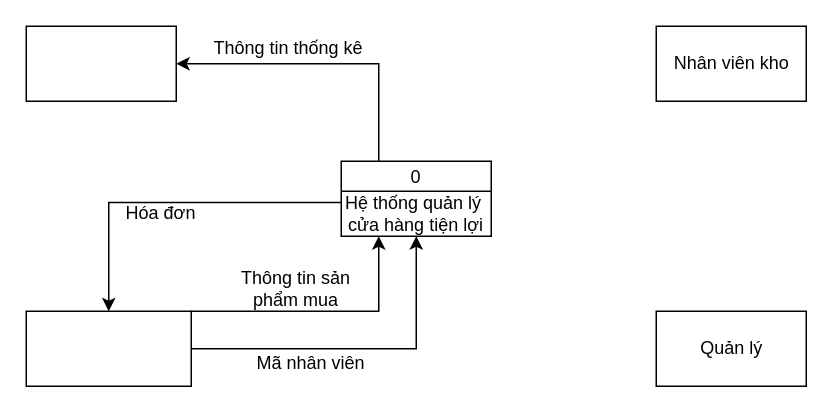
Some shapes in this 833 by 413 pixel diagram are drawn without their labels. Each missing label, with the centre of its shape:
Nhân viên bán hàng: pixel 108 348
Nhân viên kế toán: pixel 100 63
